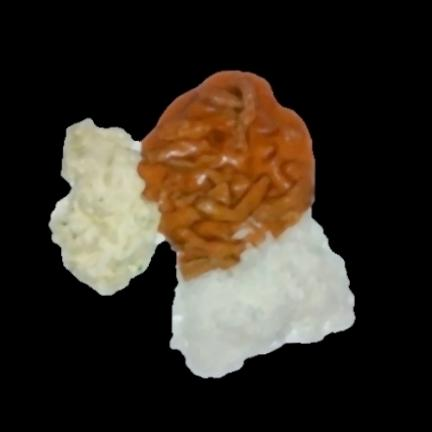beans: (141, 69, 309, 275)
potato: (46, 118, 168, 298)
rice: (174, 218, 354, 375)
